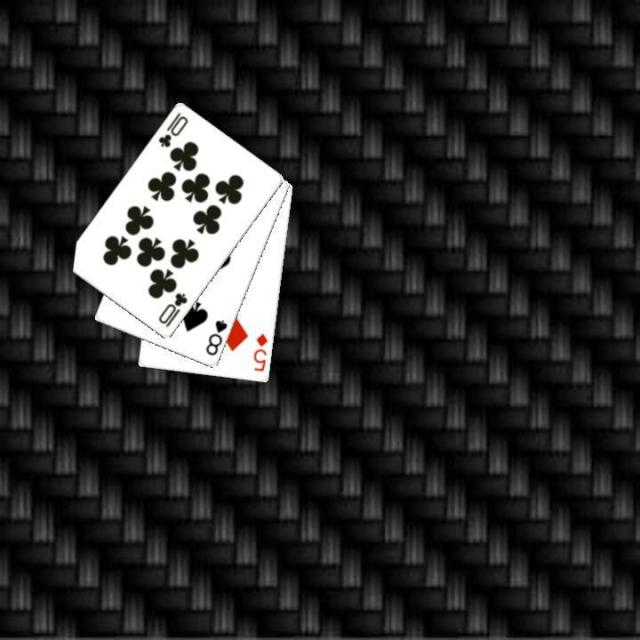10C: (155, 108, 190, 150), (155, 289, 189, 330)
5D: (250, 330, 270, 373)
8S: (202, 316, 229, 358)
